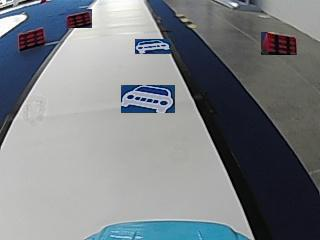bomb: (17, 26, 44, 49)
